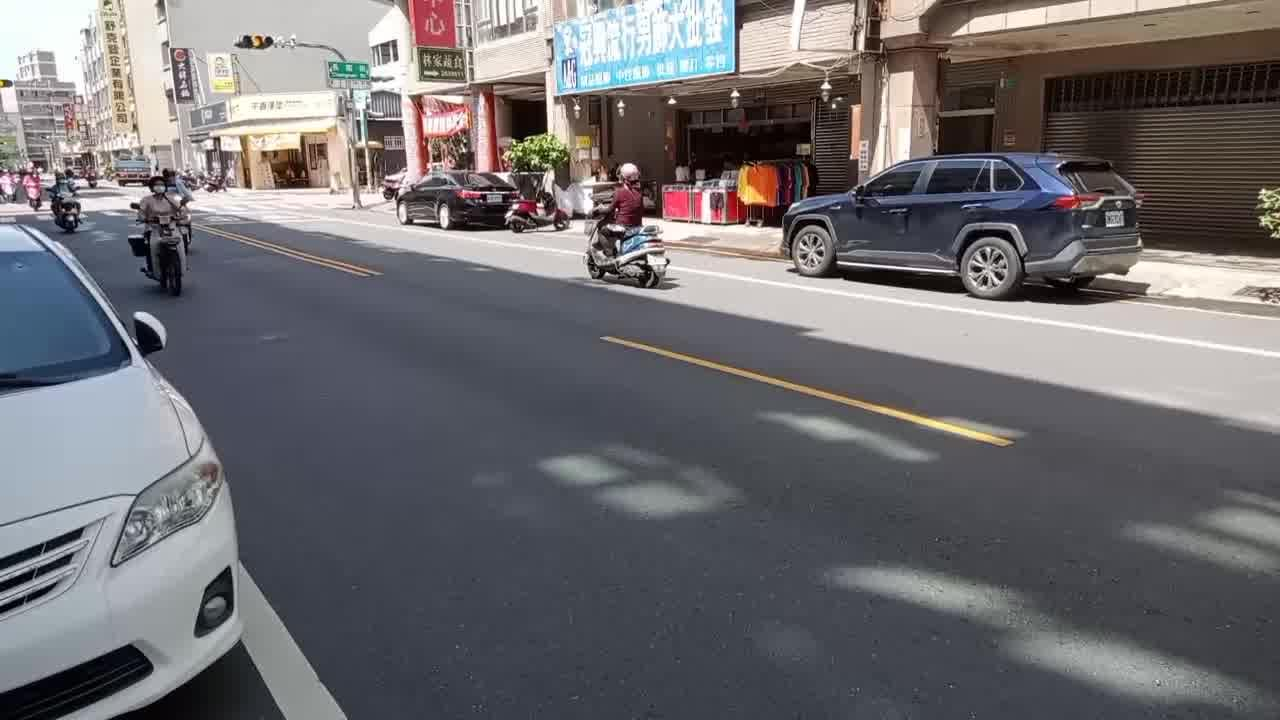driver: (578, 160, 674, 294), (122, 173, 196, 300)
